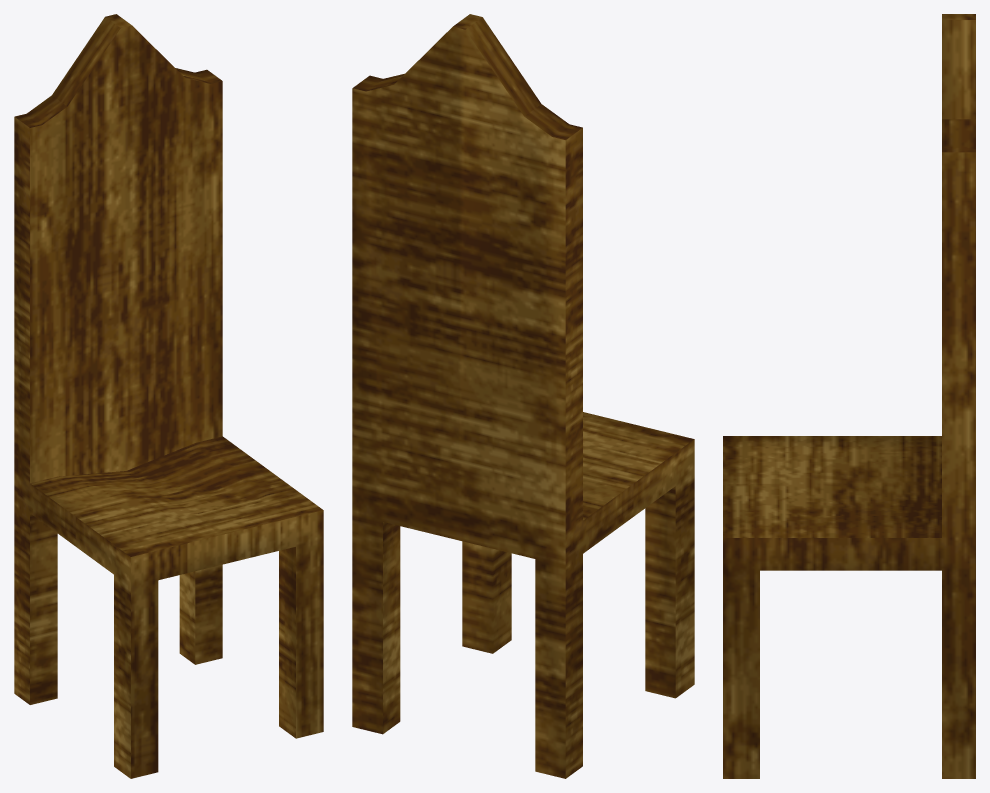
The model's file is Chair_3.gltf.
The picture shows the model from 3 angles, left to right: view 1: azimuth 30°, elevation 25°; view 2: azimuth 150°, elevation 25°; view 3: azimuth 270°, elevation 25°; orthographic projection. The views are drawn at different scales.
Visible parts, largest first — view 1: Chair_3; view 2: Chair_3; view 3: Chair_3.
Part boxes in pixels (<box>): Chair_3: <box>14,14,323,778</box>; Chair_3: <box>352,14,694,778</box>; Chair_3: <box>723,14,975,778</box>.
Size of the model in its own units: 2 by 6.5 by 2.09.
1 material, 1 textured.
